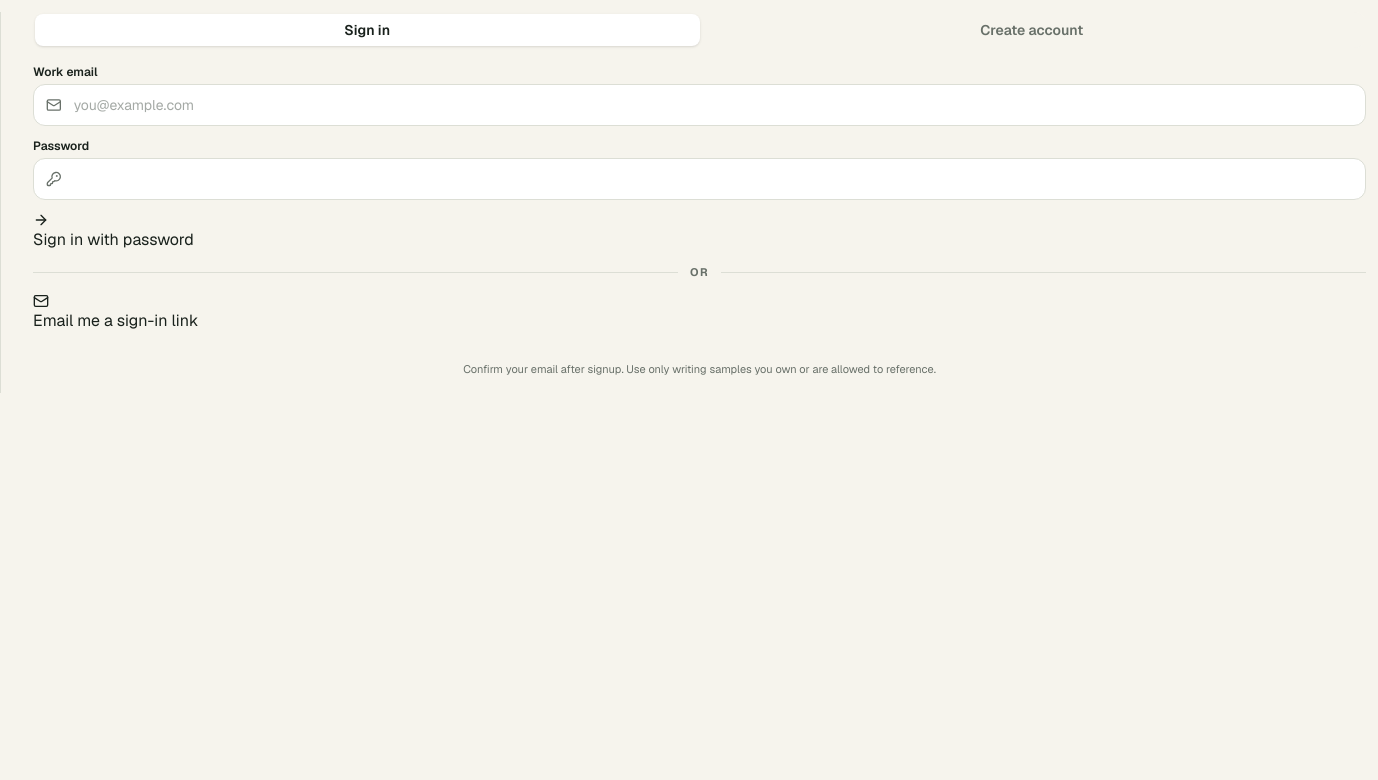
LoginForm › stops mismatched passwords before making a request
Click the button "Create account" at (1032, 30), box [700,14,1364,46]
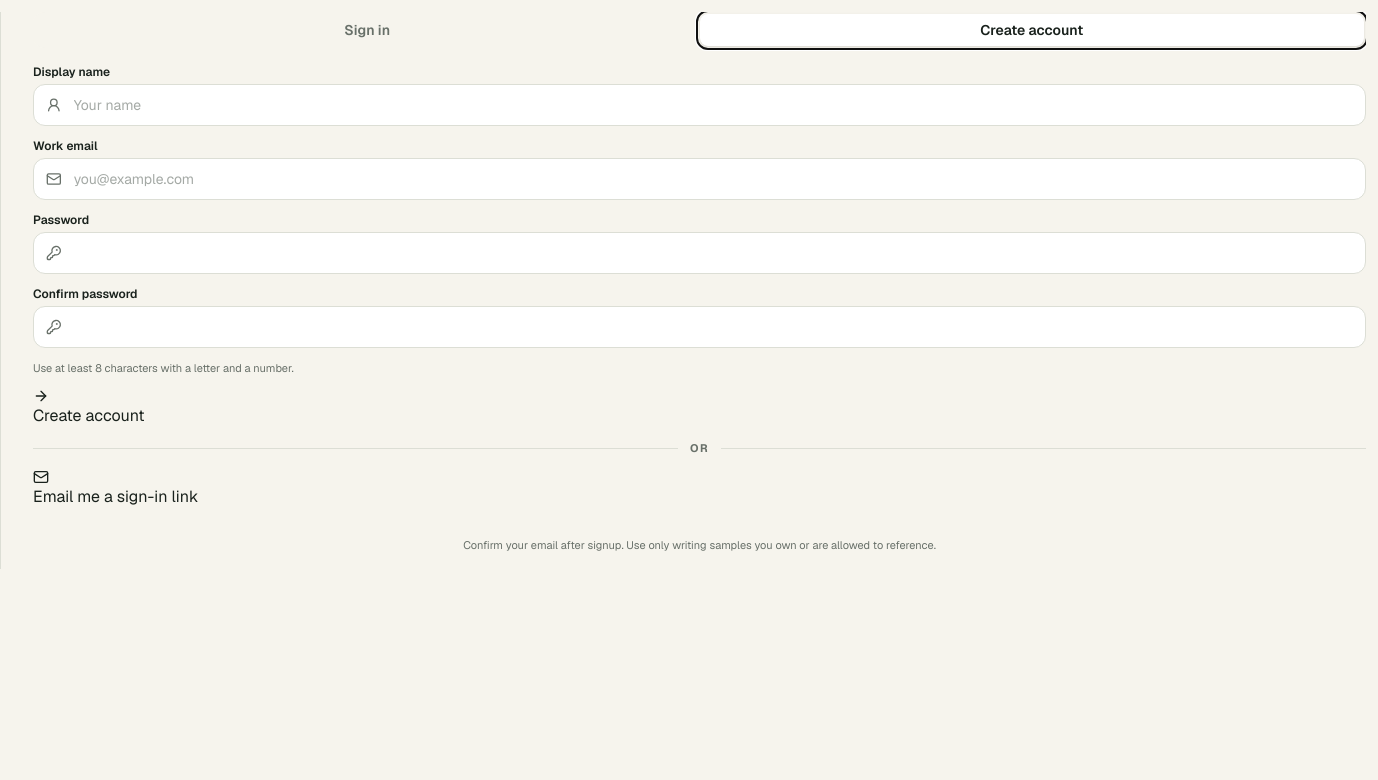
Type "Ankit" into the field labelled "Display name" at (713, 105), box [74,85,1353,125]
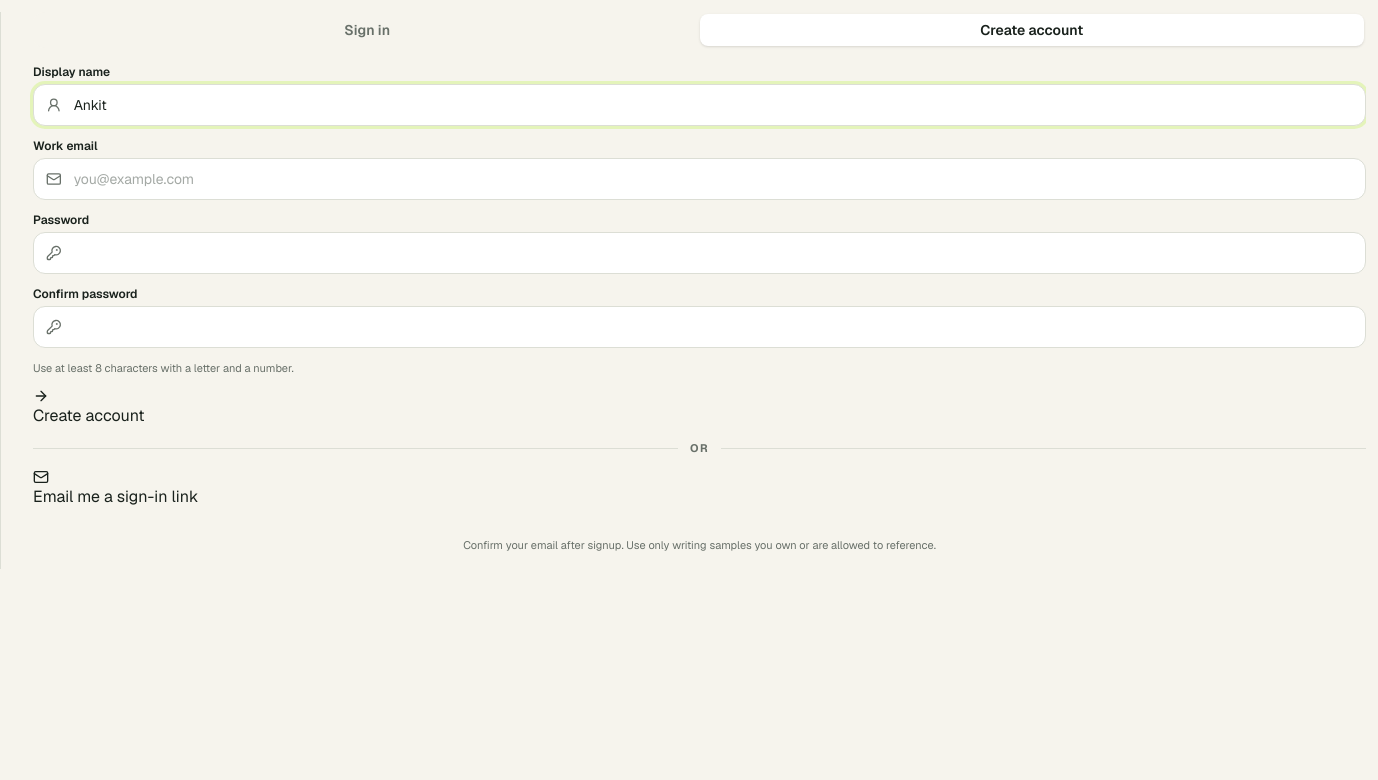
Type "writer@example.com" into the field labelled "Work email" at (713, 179), box [74,159,1353,199]
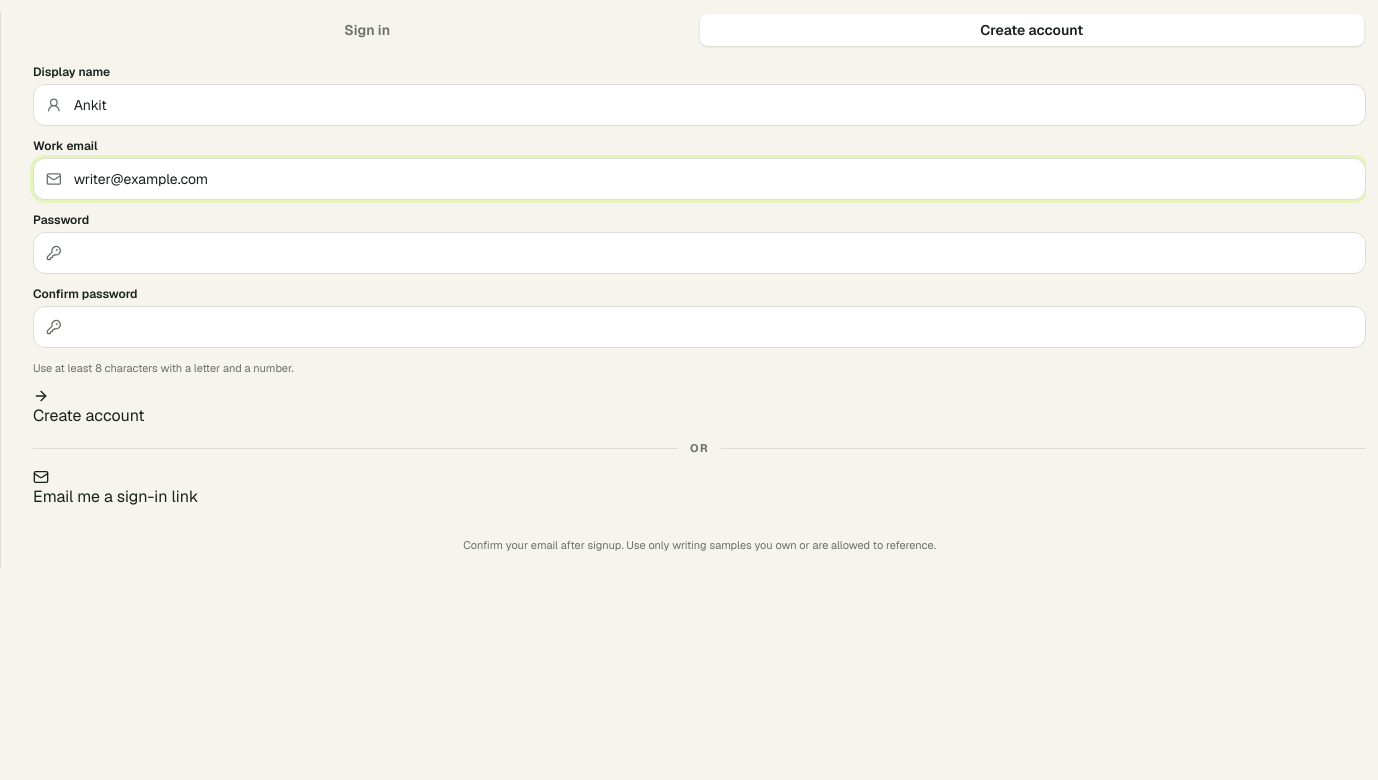
Type "writing123" into the password field labelled "Password" at (713, 253), box [74,233,1353,273]
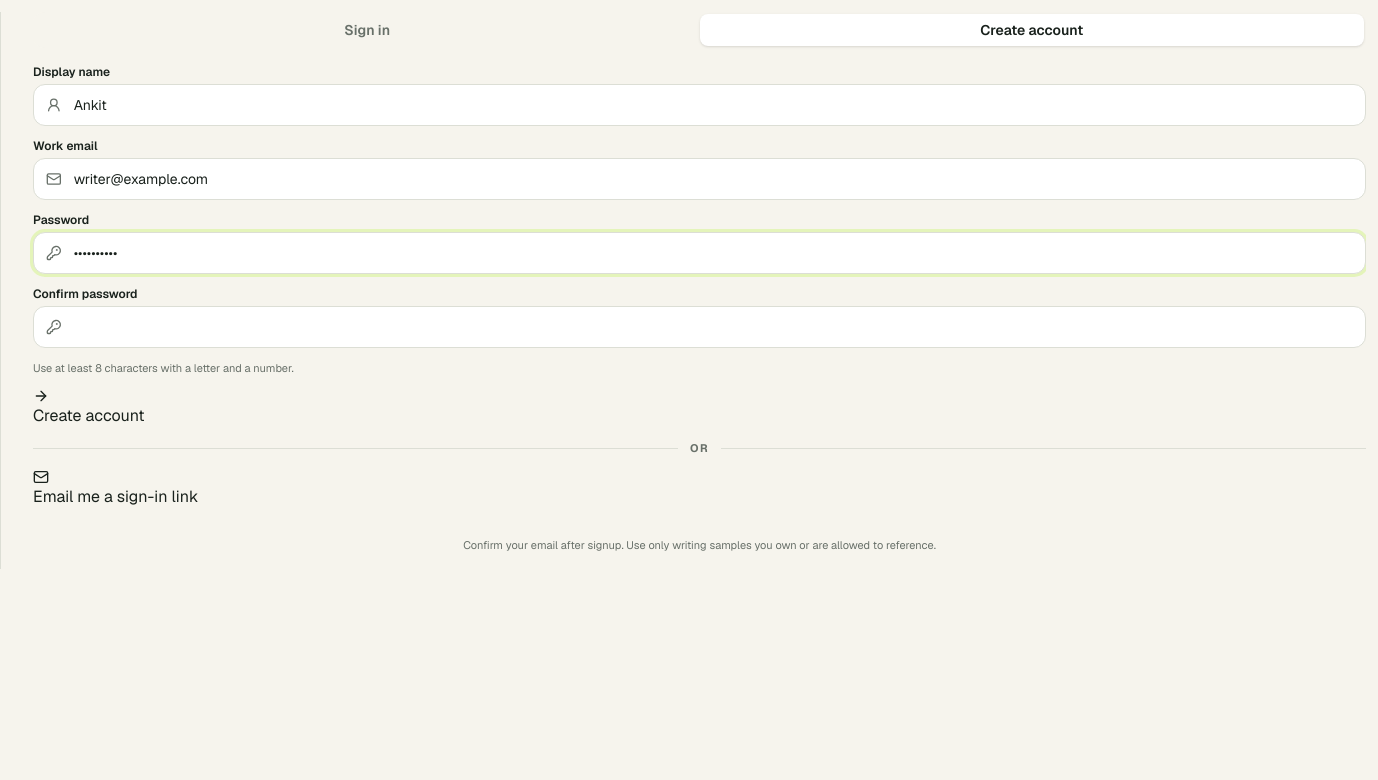
Type "different1" into the password field labelled "Confirm password" at (713, 327), box [74,307,1353,347]
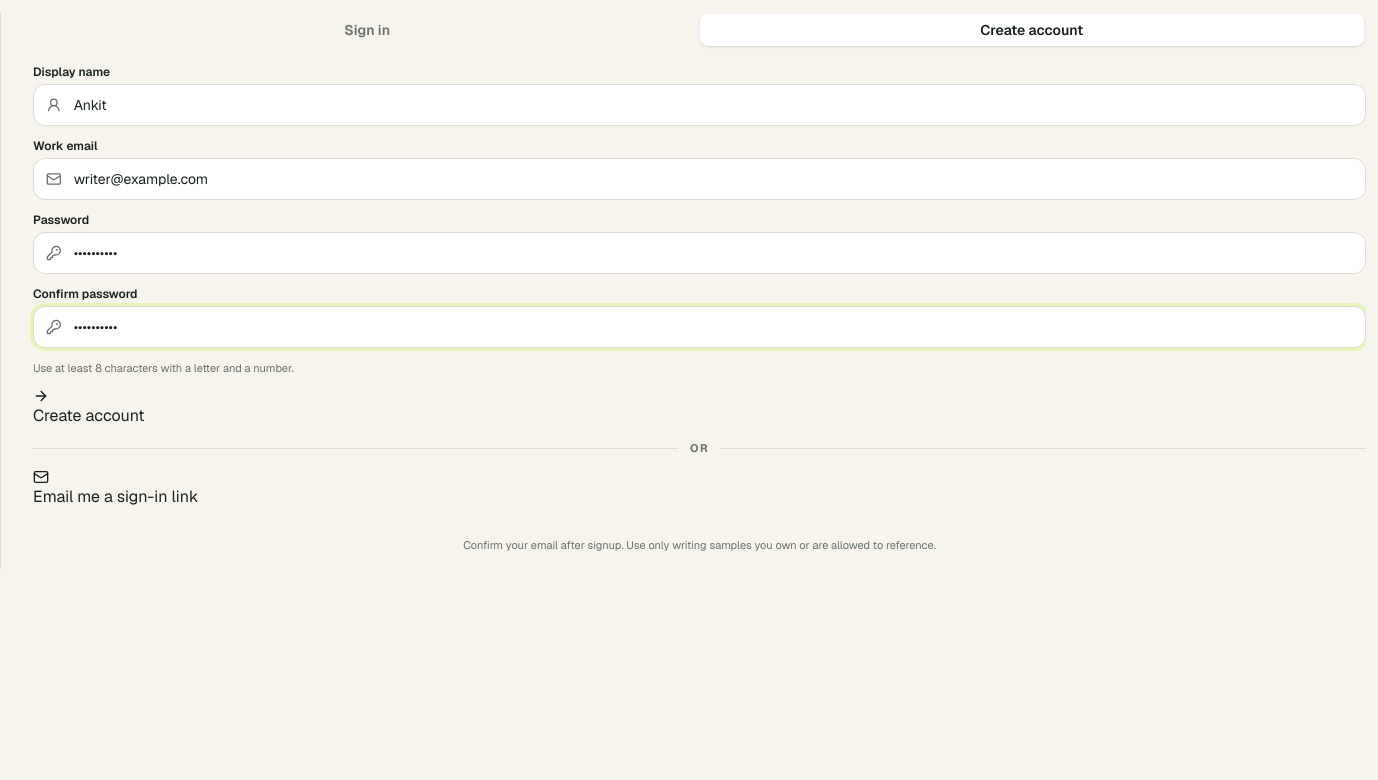
Click the button "Create account" below "Confirm password" at (89, 408), box [33,388,145,428]
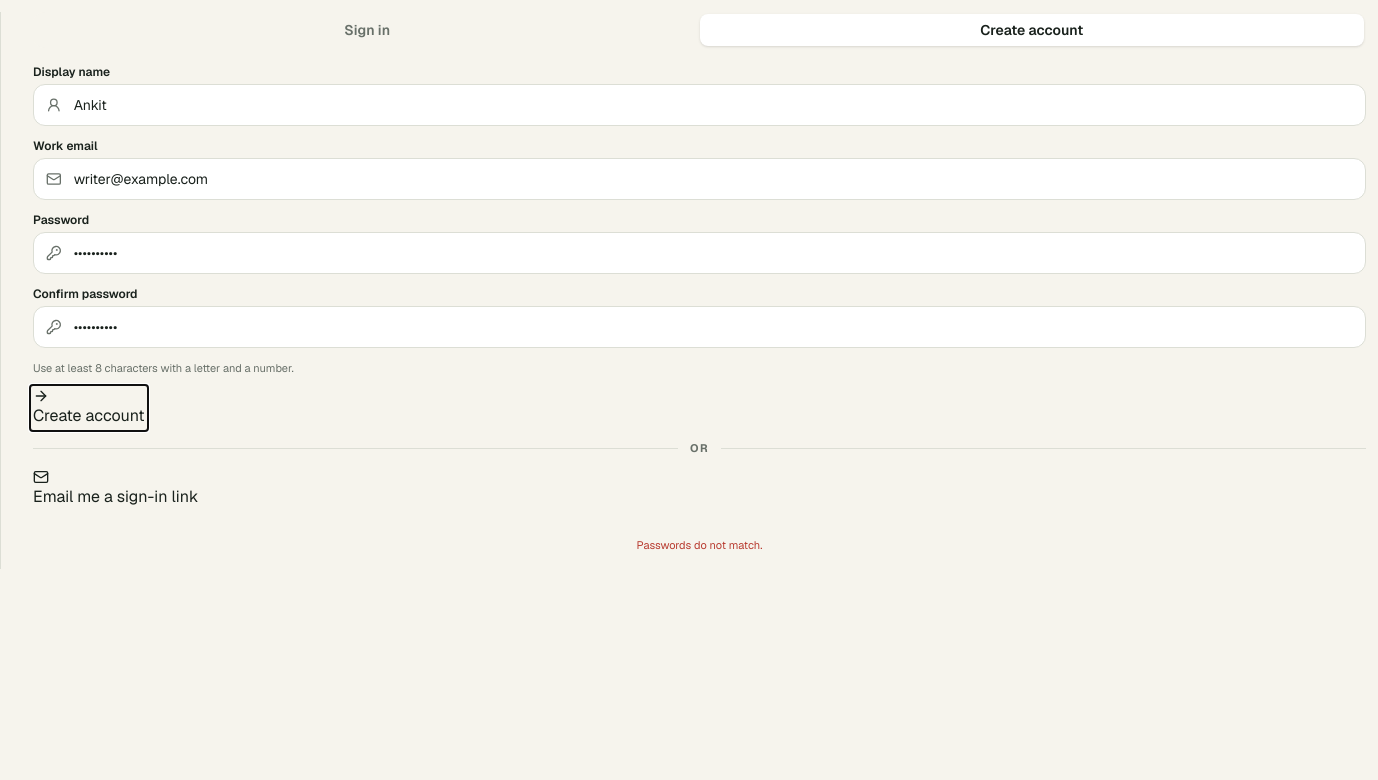
Check: the text "Passwords do not match." is shown, box [636,538,762,552]
